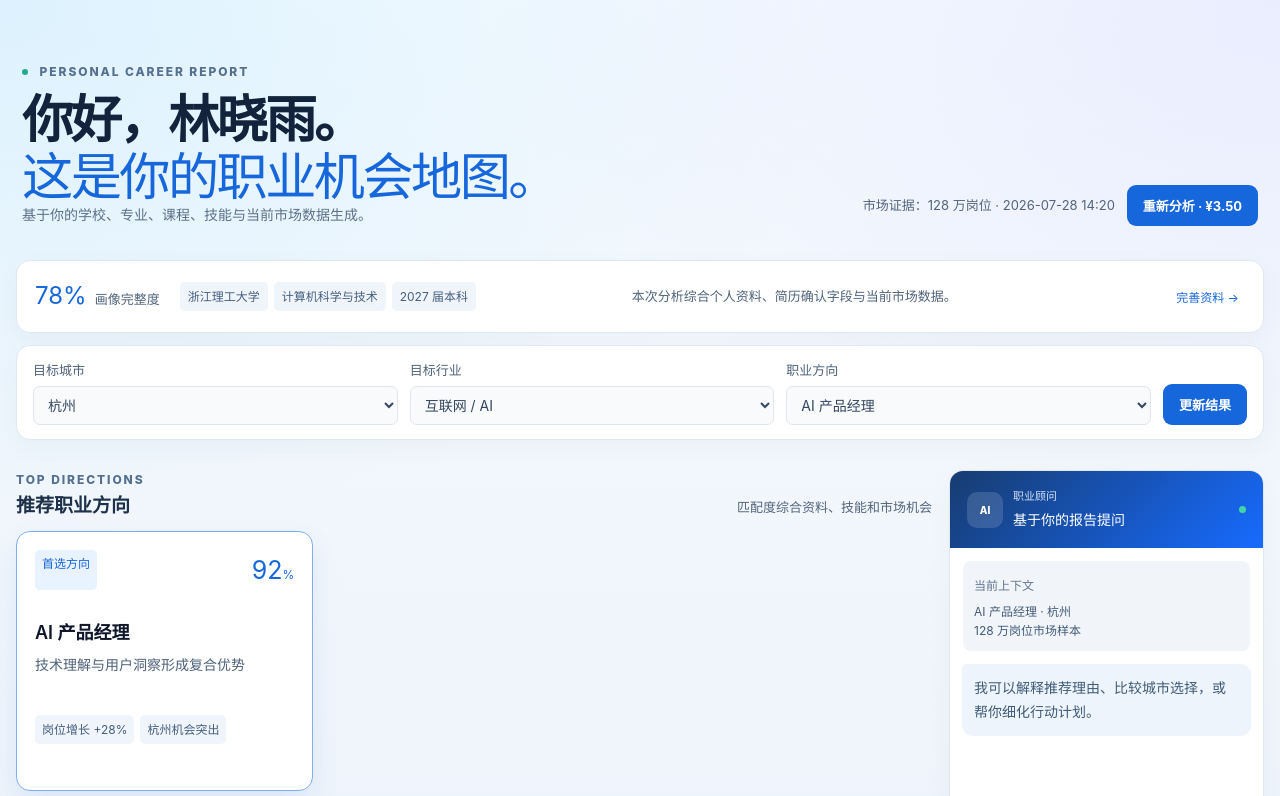
Test: CareerAnalysisView › maps an SSE model timeout to the precise career error message
Click the button with test id "generate-analysis": (1192, 206) [1127, 185, 1258, 226]
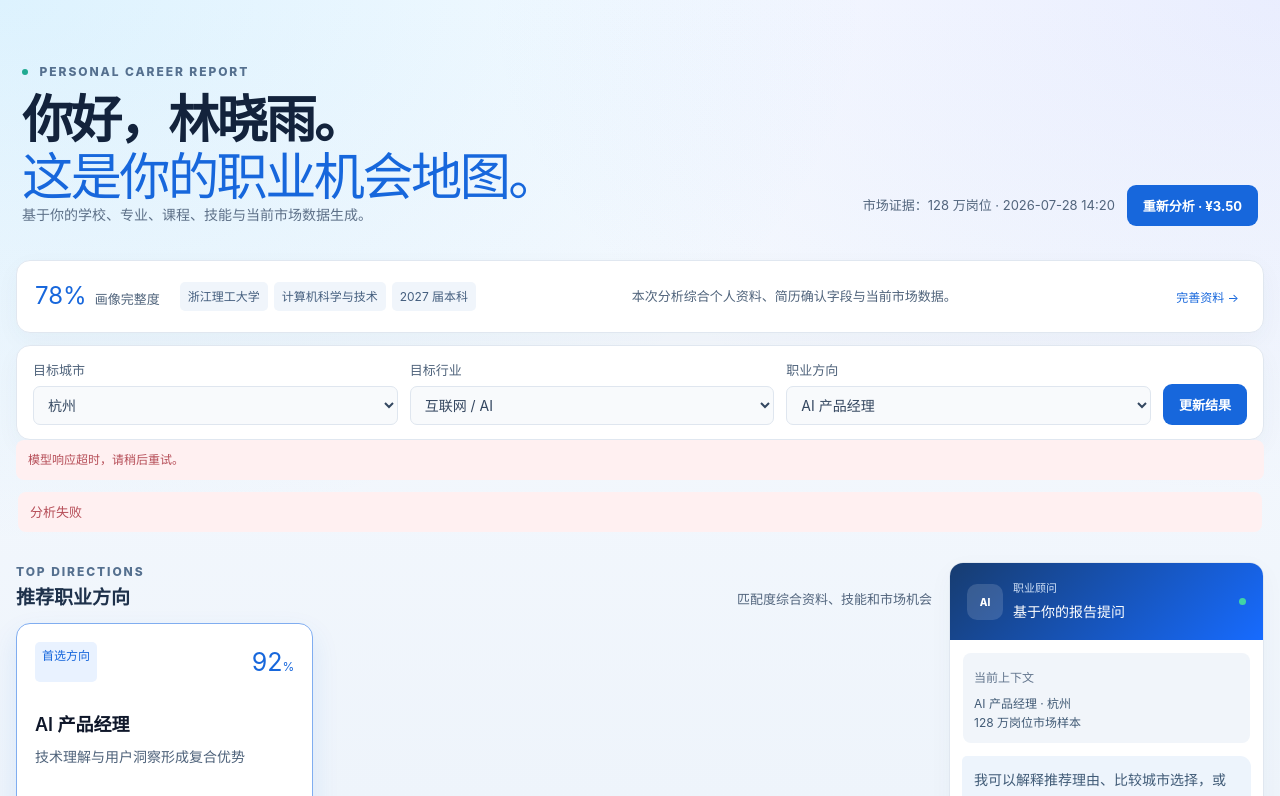
Result: the text with class "error-message" shows "模型响应超时" at [28, 452, 184, 467]
